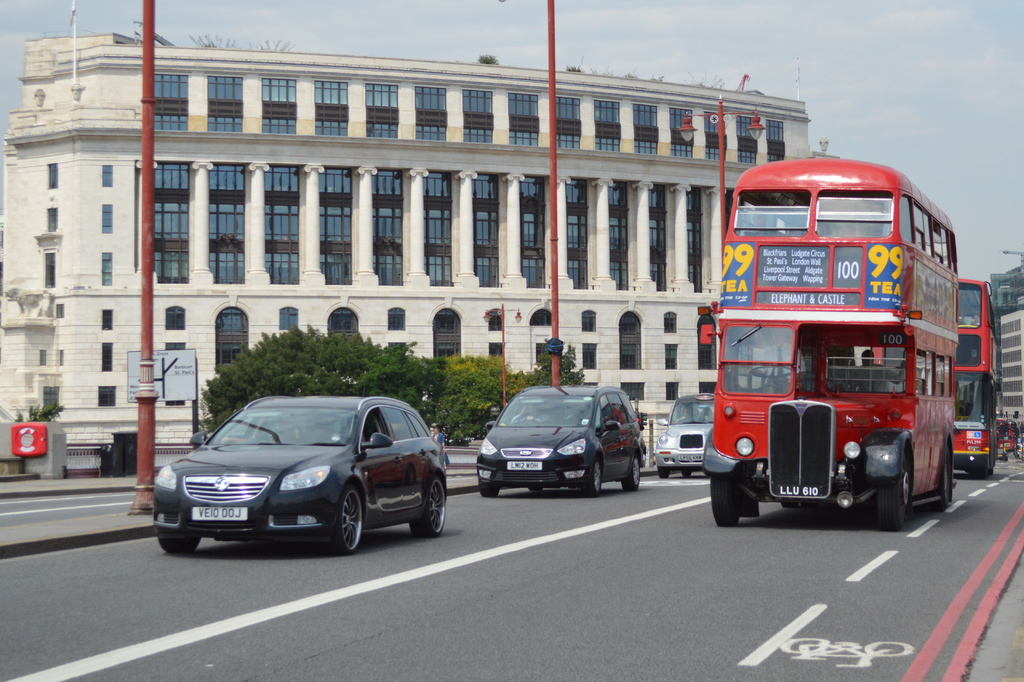car: (141, 370, 464, 571), (472, 362, 647, 511), (643, 372, 724, 481)
truck: (696, 134, 970, 526), (931, 262, 1016, 478)
